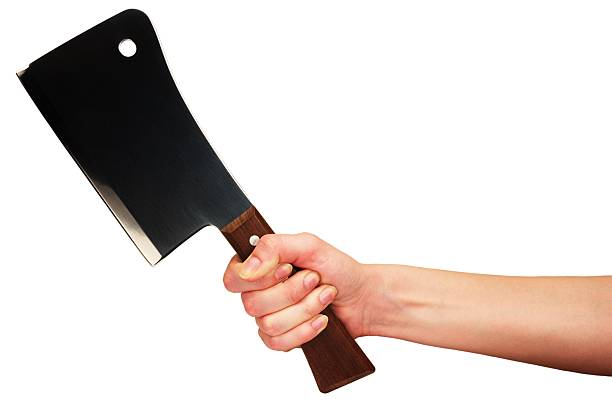knife: (17, 7, 377, 395)
